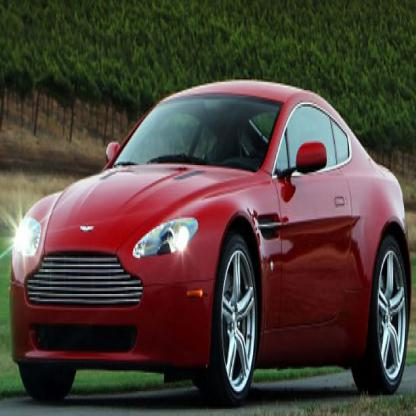Vehicle: (8, 77, 416, 412)
